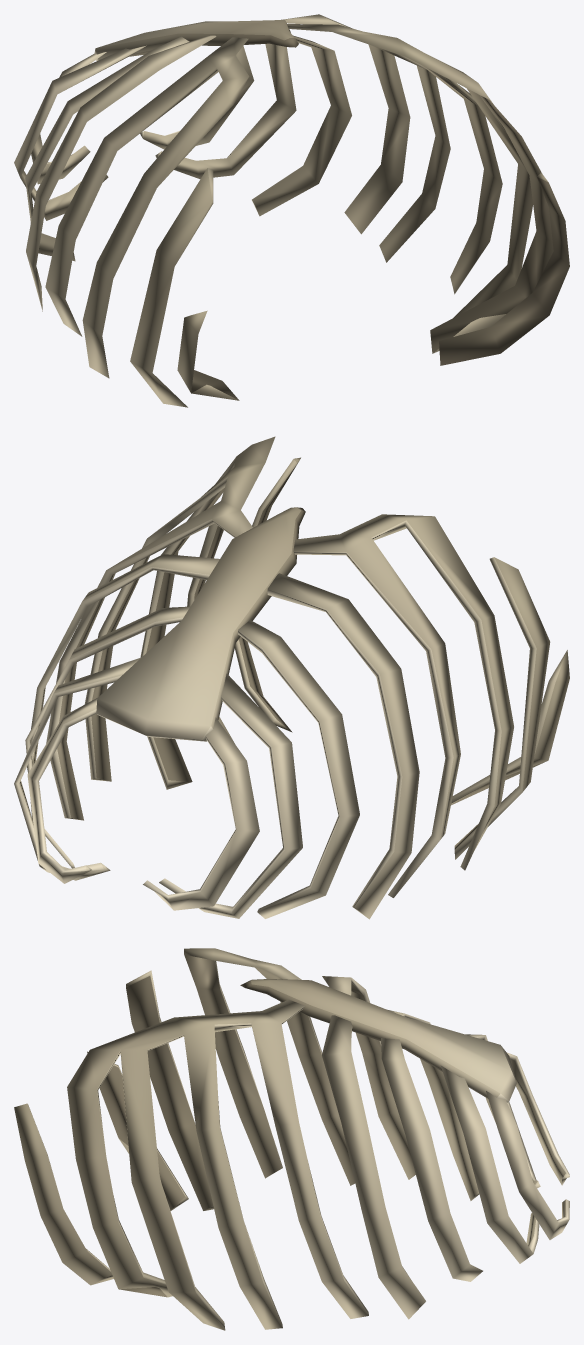
The model's file is Human_Remains_1D.fbx.
3 renders of one model, top to bottom at view 1: azimuth 30°, elevation 25°; view 2: azimuth 150°, elevation 25°; view 3: azimuth 270°, elevation 25°, orthographic. The views are drawn at different scales.
Parts seen in each view (by area): view 1: Human_Remains_1D; view 2: Human_Remains_1D; view 3: Human_Remains_1D.
Boxes of the visible parts, x1,y1,x2,y2 form: Human_Remains_1D: (14,14,569,407); Human_Remains_1D: (14,436,569,919); Human_Remains_1D: (14,948,569,1330).
Size of the model in its own units: 32.6 by 24.95 by 43.59.
